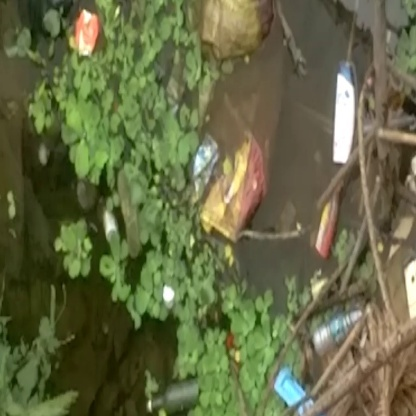bottle: (307, 301, 379, 367), (330, 59, 359, 165)
